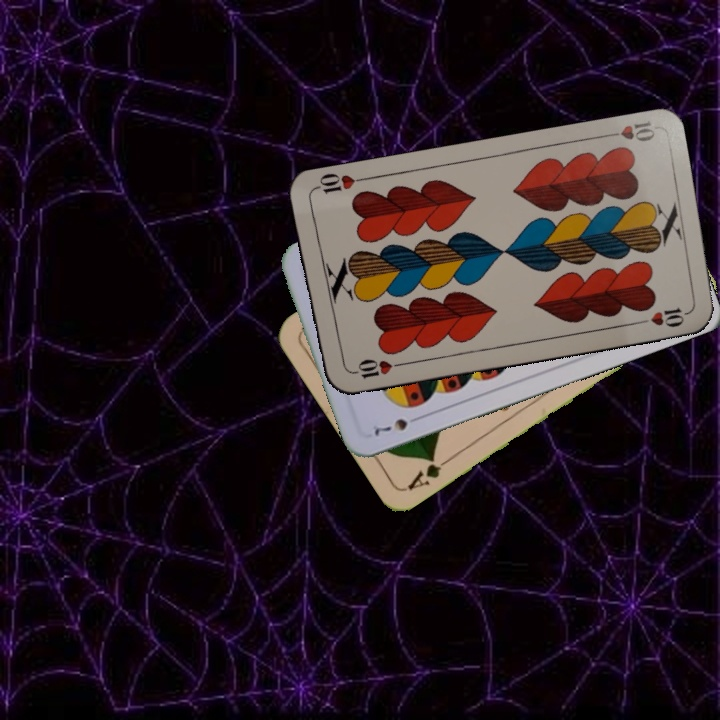GA: (403, 452, 454, 493)
H10: (598, 117, 658, 144), (345, 355, 404, 381)
S7: (370, 412, 424, 439)
